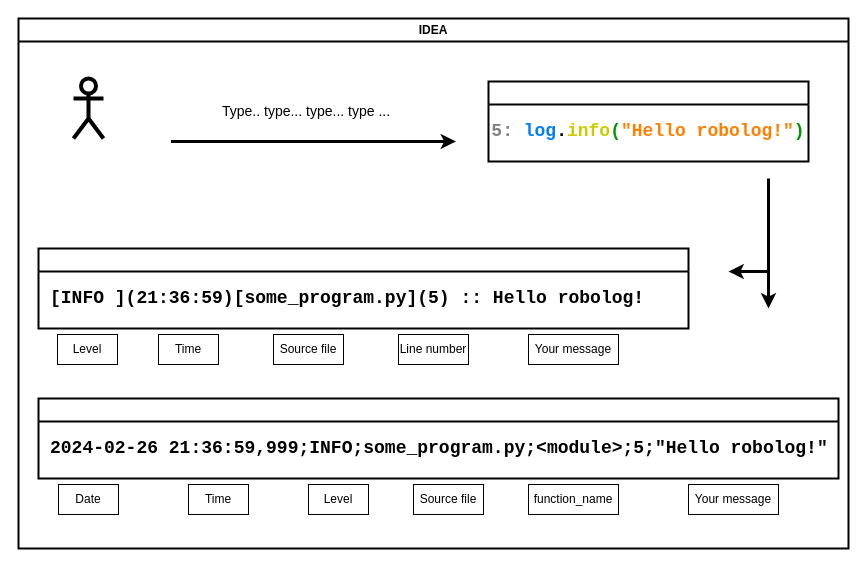
The diagram is 866 pixels wide and 566 high, and some of its shapes have lost their labels. The box of each missing label's shape, as (x1, y1, x2, y2) in pixels:
logs_202402.csv (default time/date-stamped file): (37, 397, 839, 479)
screen (default): (37, 247, 689, 329)
some_program.py: (487, 80, 809, 162)
You: (71, 76, 105, 140)
